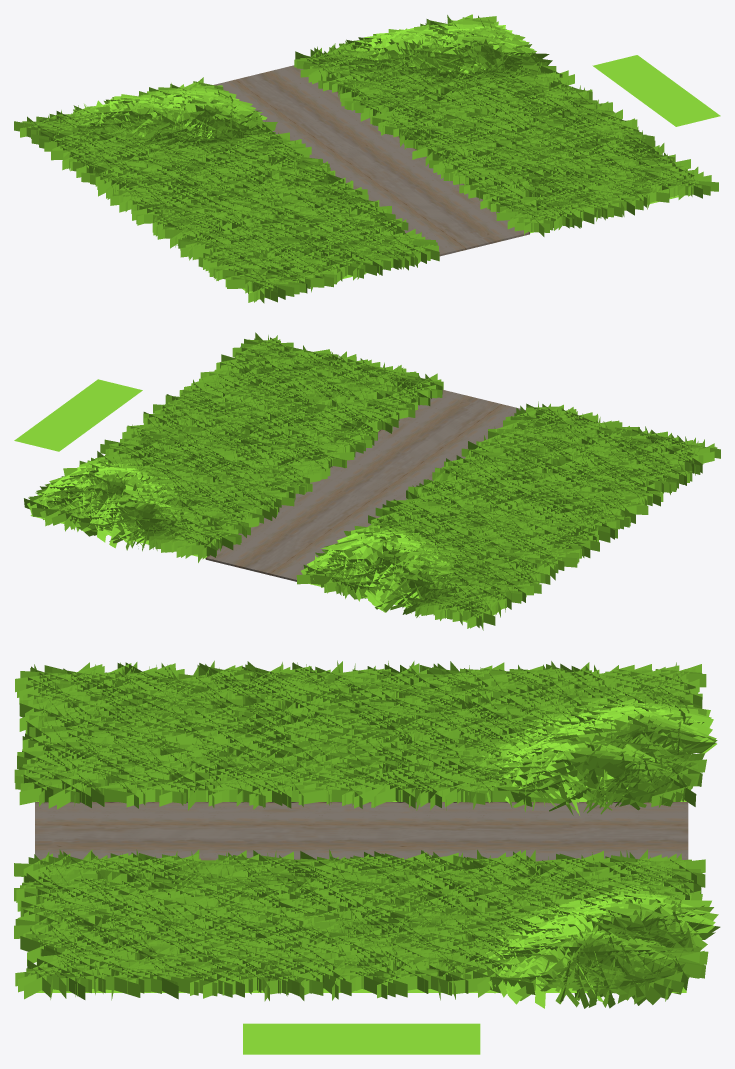
The model's file is Jalann.fbx.
The picture shows the model from 3 angles, top to bottom: view 1: azimuth 30°, elevation 25°; view 2: azimuth 150°, elevation 25°; view 3: azimuth 270°, elevation 25°; orthographic projection. The views are drawn at different scales.
Visible parts, largest first — view 1: Cube.155, Cube.002, Cube.001, Plane.001; view 2: Cube.155, Cube.002, Cube.001, Plane.001; view 3: Cube.155, Cube.001, Plane.001, Cube.002, Plane.
Part boxes in pixels (left/top/right/bottom): Cube.155: left=235, top=72, right=497, bottom=249; Cube.002: left=267, top=65, right=529, bottom=241; Cube.001: left=213, top=79, right=465, bottom=256; Plane.001: left=592, top=55, right=720, bottom=126; Cube.155: left=238, top=396, right=501, bottom=575; Cube.002: left=205, top=390, right=469, bottom=567; Cube.001: left=271, top=404, right=525, bottom=581; Plane.001: left=14, top=379, right=142, bottom=451; Cube.155: left=35, top=824, right=688, bottom=846; Cube.001: left=35, top=802, right=688, bottom=824; Plane.001: left=243, top=1023, right=480, bottom=1054; Cube.002: left=35, top=847, right=688, bottom=861; Plane: left=36, top=774, right=686, bottom=992.
Bounding box in the file's own units: 2357 × 107 × 1848.
